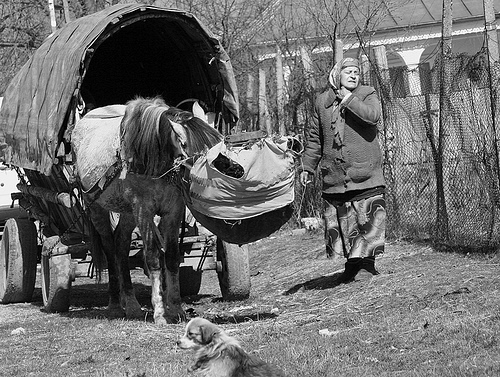horse: (64, 95, 235, 329)
